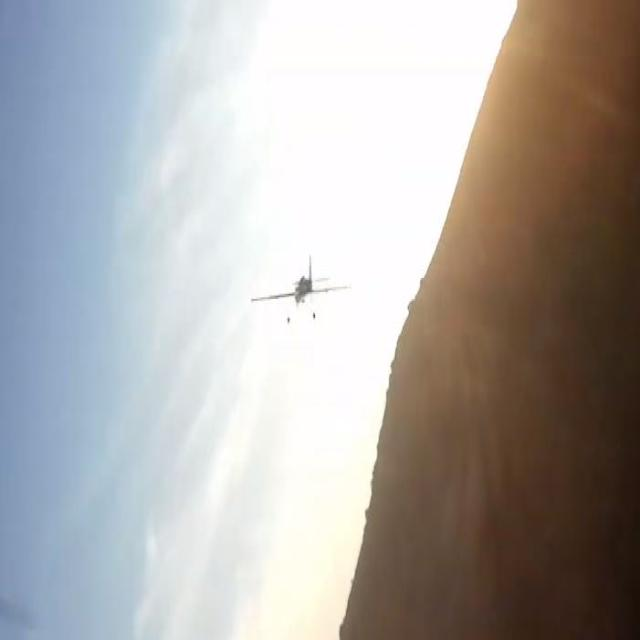iha: (281, 287, 320, 290)
